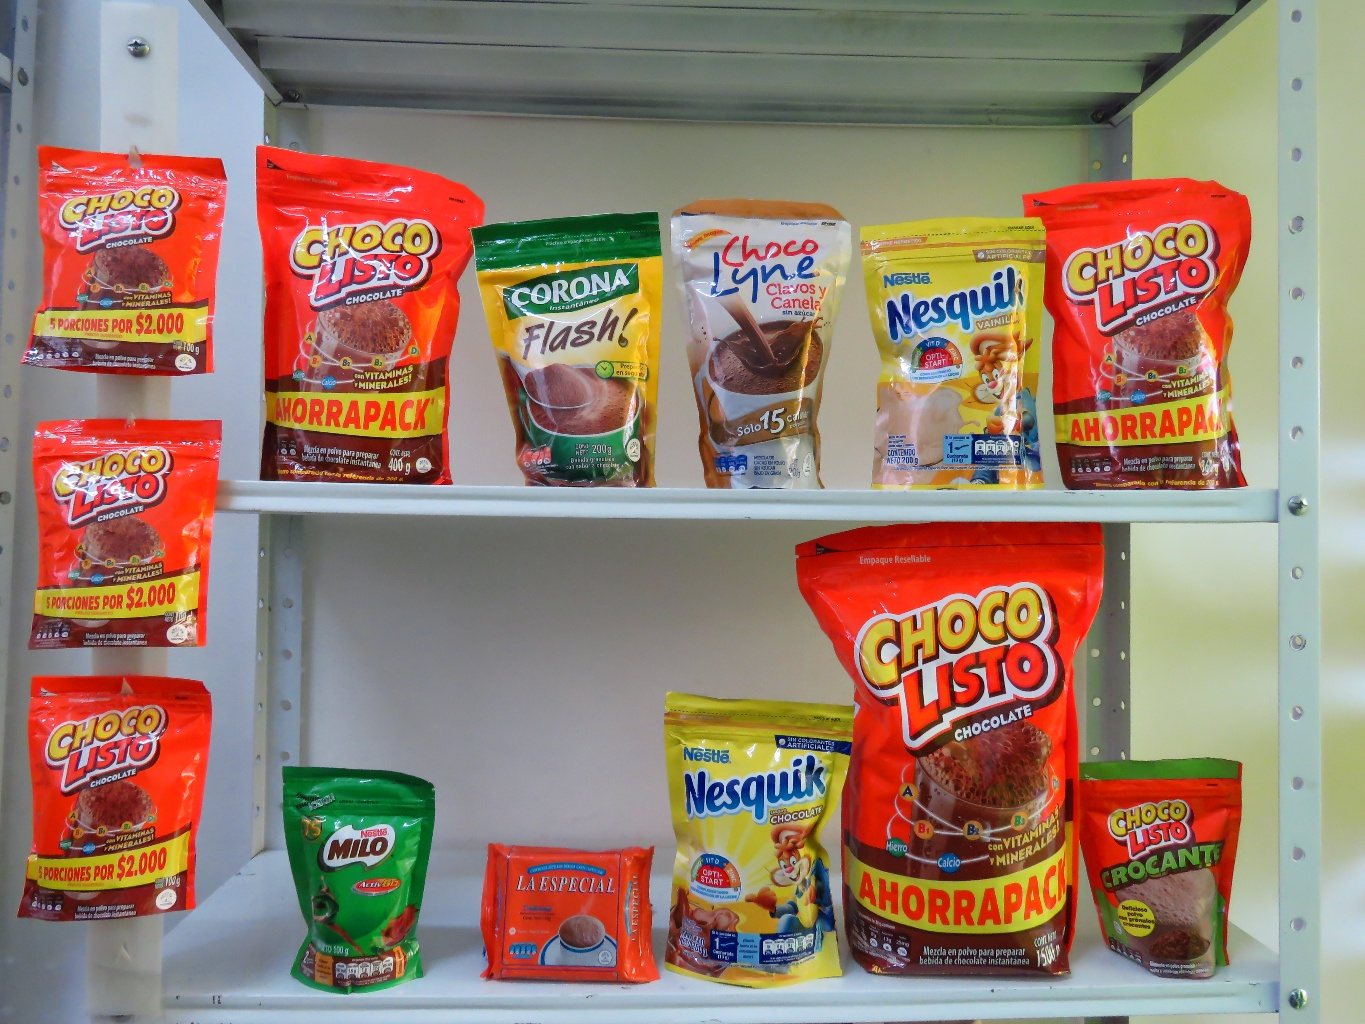COL0170102DYP10000: (1083, 751, 1240, 986)
COL0170103DYP1,500: (807, 518, 1120, 983)
COL0170103DYP10000: (11, 670, 215, 923)
COL0170103DYP36000: (1016, 170, 1251, 489)
COL0170103DYP40000: (232, 137, 474, 487)
COL0170203DYP10000: (248, 740, 473, 993)
COL0170303DYP20000: (658, 689, 865, 992)
COL0170306DYP20000: (849, 210, 1065, 483)
